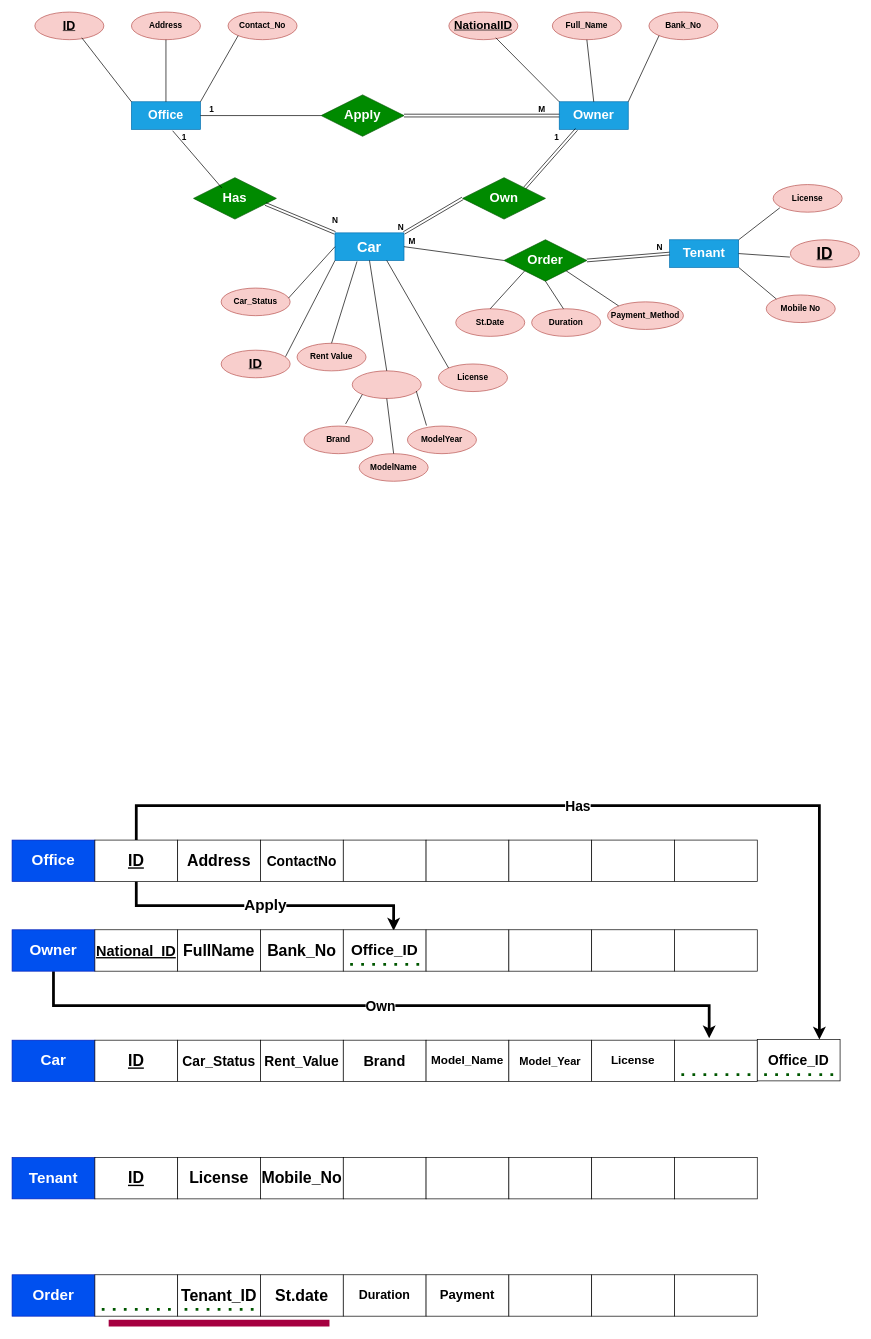
The diagram is 871 pixels wide and 1339 high, and some of its shapes have lost their labels. The shapes that lost their labels are listed below. From the top down, each one's box as (x1, y1, x2, y2) in pixels, then its label:
(352, 370, 421, 398): Model
(674, 1039, 757, 1082): Owner_ID
(94, 1274, 178, 1316): Car_ID
